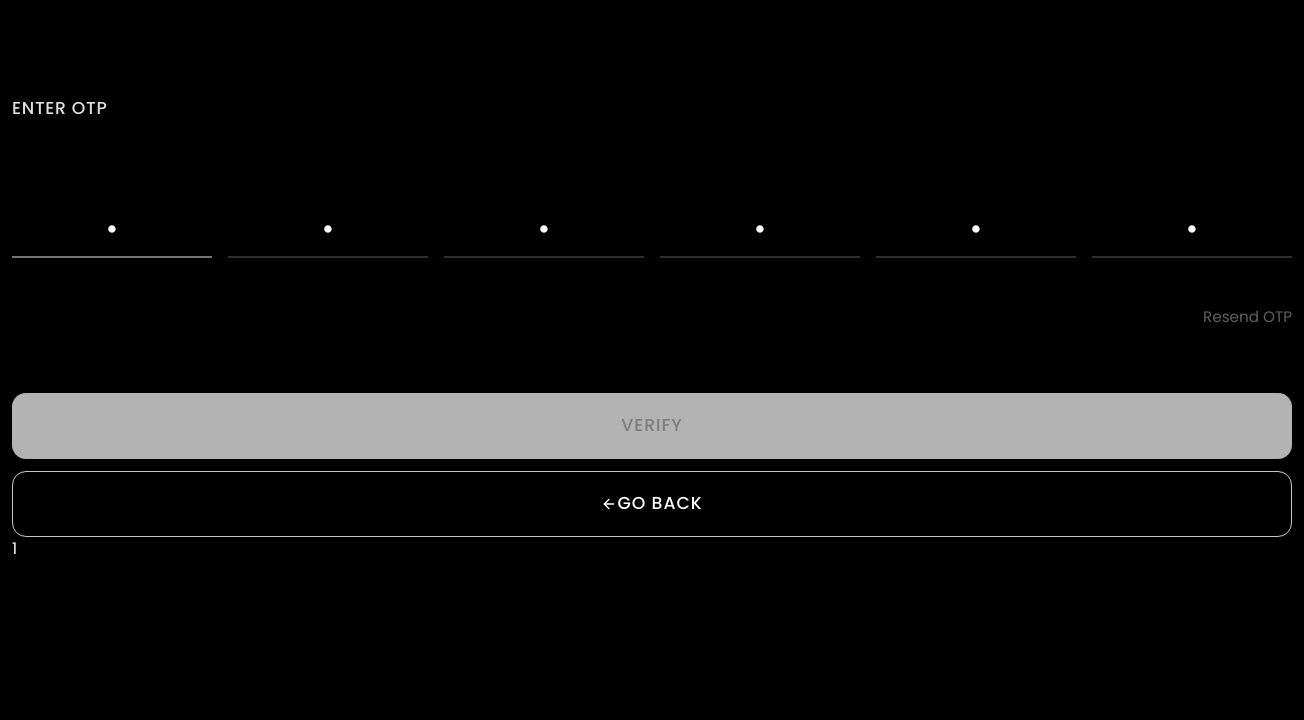
Test case: OtpStep › resends a code, shows the demo toast, and restarts the cooldown
The image size is (1304, 720).
Click the button "Resend OTP" at (1248, 317), box left=1203, top=306, right=1292, bottom=329
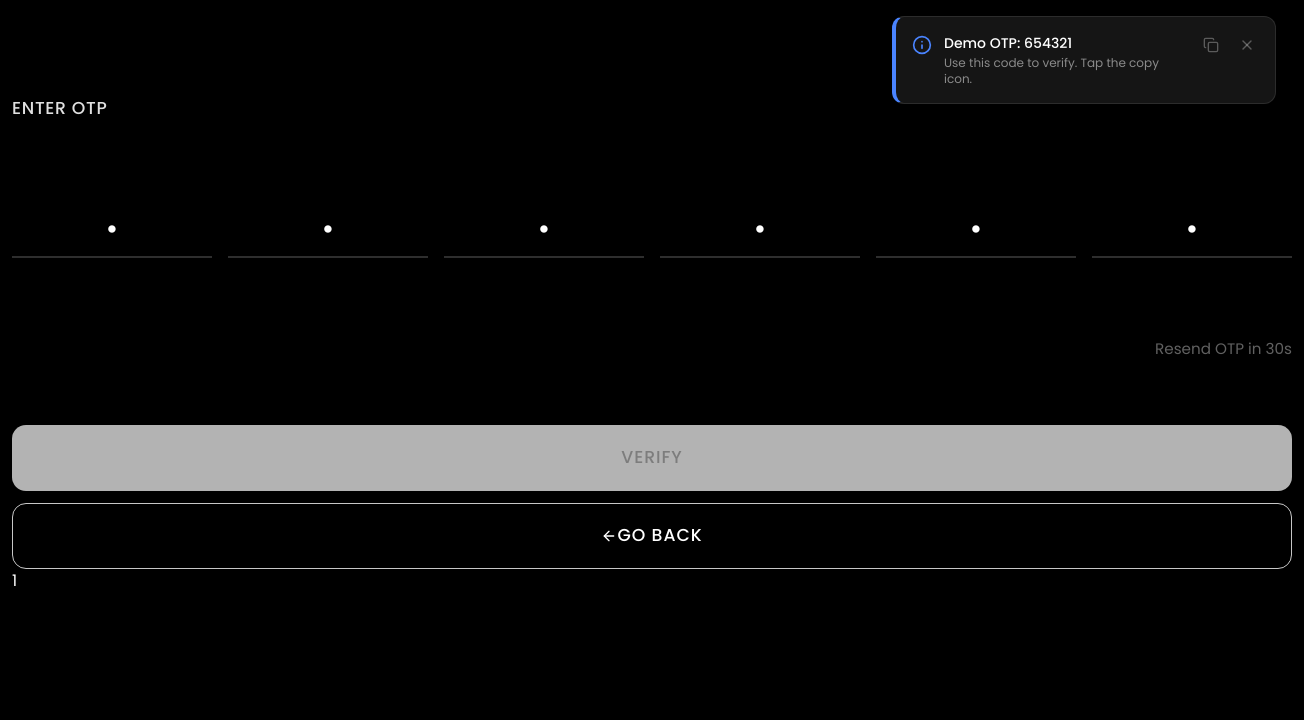
Now the text "Demo OTP: 654321" is shown, box left=944, top=33, right=1072, bottom=53
Now the text "Resend OTP in 30s" is shown, box left=1155, top=338, right=1292, bottom=361
